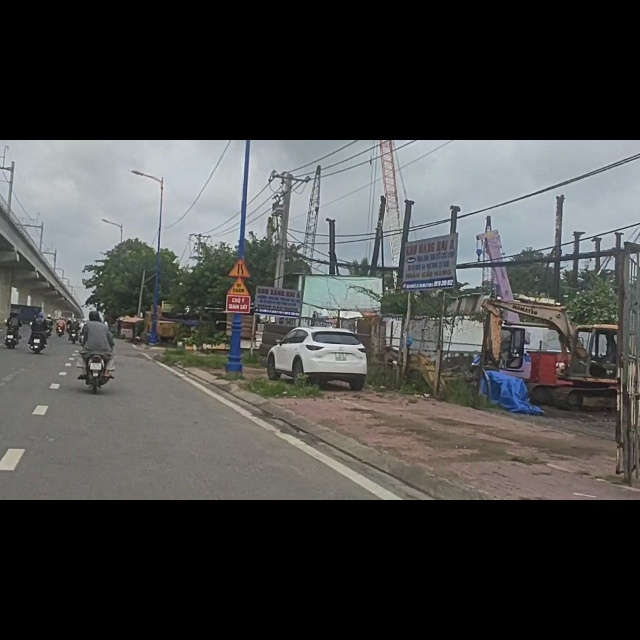bien_nguy_hiem: (227, 245, 250, 277), (229, 212, 251, 243)
